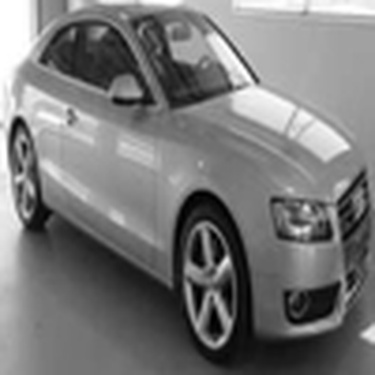car: (2, 1, 369, 370)
